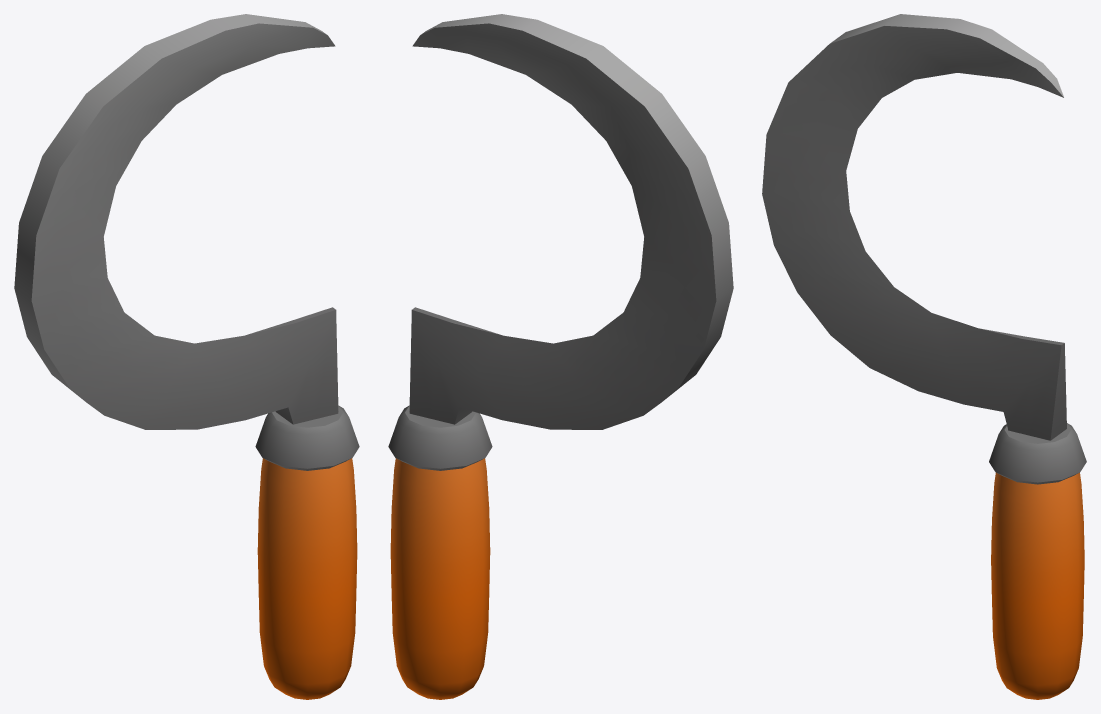
Rendered from Farm_Tool_Sickle_01.fbx.
The picture shows the model from 3 angles, left to right: view 1: azimuth 30°, elevation 25°; view 2: azimuth 150°, elevation 25°; view 3: azimuth 330°, elevation 25°; orthographic projection. The views are drawn at different scales.
Parts seen in each view (by area): view 1: Farm_Tool_Sickle_01; view 2: Farm_Tool_Sickle_01; view 3: Farm_Tool_Sickle_01.
Boxes of the visible parts, left/top/right/bottom form: Farm_Tool_Sickle_01: left=14, top=14, right=359, bottom=699; Farm_Tool_Sickle_01: left=388, top=14, right=733, bottom=699; Farm_Tool_Sickle_01: left=762, top=14, right=1086, bottom=699.
Size of the model in its own units: 45.14 by 90.24 by 12.36.
